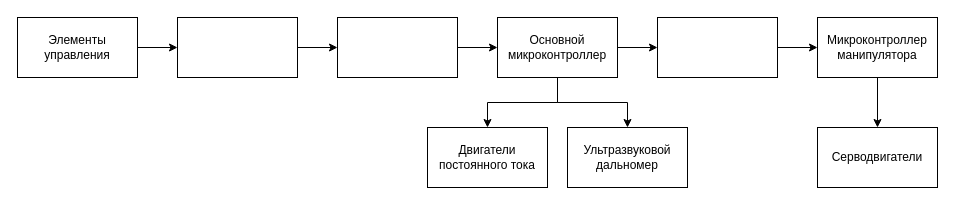
The diagram is 955 pixels wide and 205 high, and some of its shapes have lost their labels. The centre of each missing label's shape, as x and y in pixels:
"Интерфейс I2C" belongs at point 717,47.
"Микроконтроллер пульта управления" belongs at point 237,47.
"Радиомодуль NRF24L01" belongs at point 397,47.
